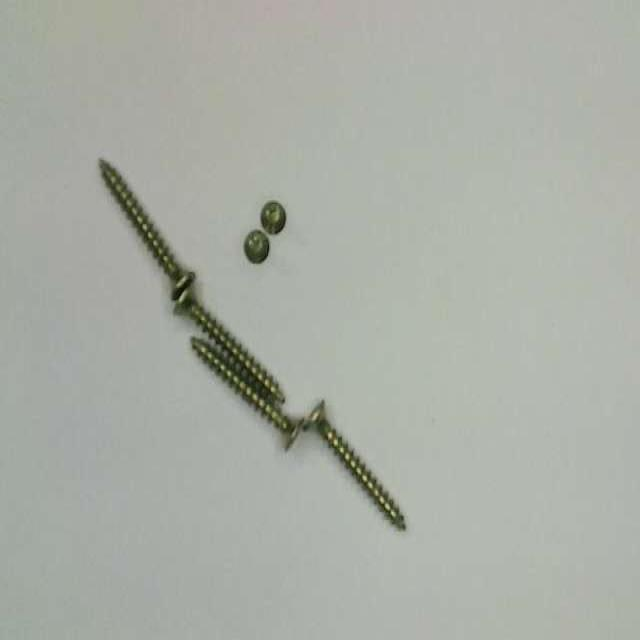Parafuso: (99, 158, 197, 302), (173, 280, 285, 404), (304, 398, 407, 531), (191, 338, 306, 452), (244, 229, 269, 263), (261, 201, 285, 233)
